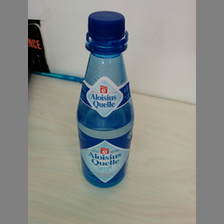water: (74, 11, 133, 189)
